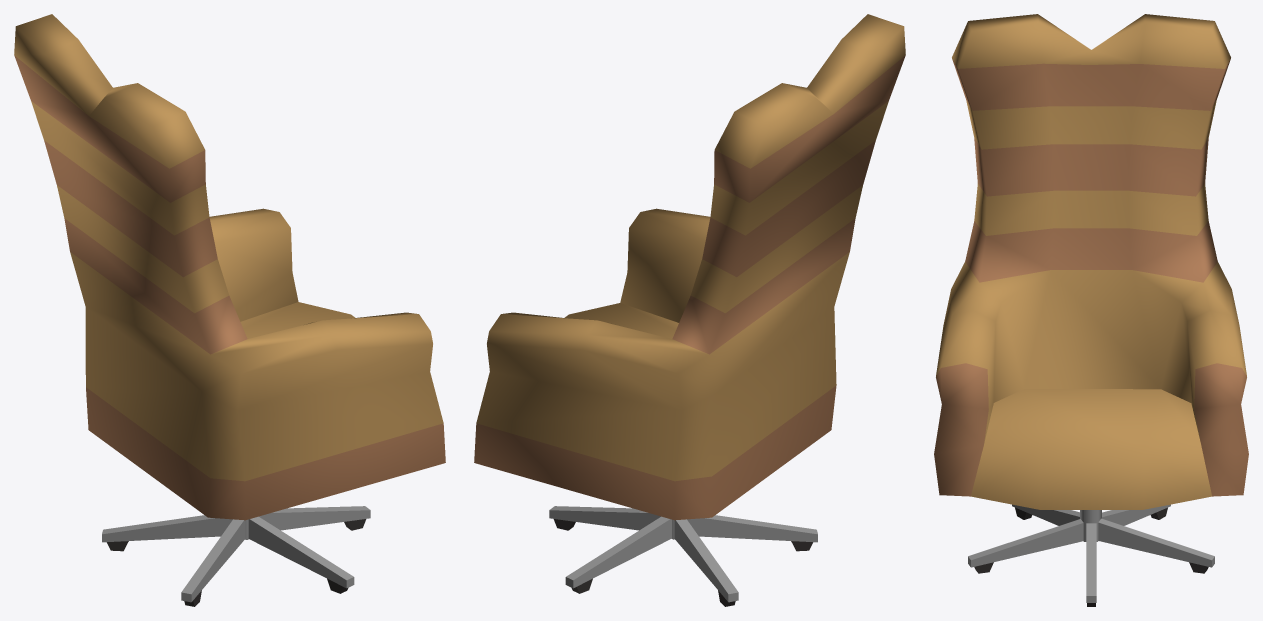
The model's file is interior_D_008.fbx.
3 renders of one model, left to right at view 1: azimuth 30°, elevation 25°; view 2: azimuth 150°, elevation 25°; view 3: azimuth 270°, elevation 25°, orthographic. The views are drawn at different scales.
Visible parts, largest first — view 1: interior_D_008; view 2: interior_D_008; view 3: interior_D_008.
Boxes of the visible parts, box(x1,y1,x2,y2) form: interior_D_008: box(14, 14, 445, 606); interior_D_008: box(474, 14, 905, 606); interior_D_008: box(934, 14, 1248, 606).
Bounding box in the file's own units: 80.98 × 130 × 78.58.
